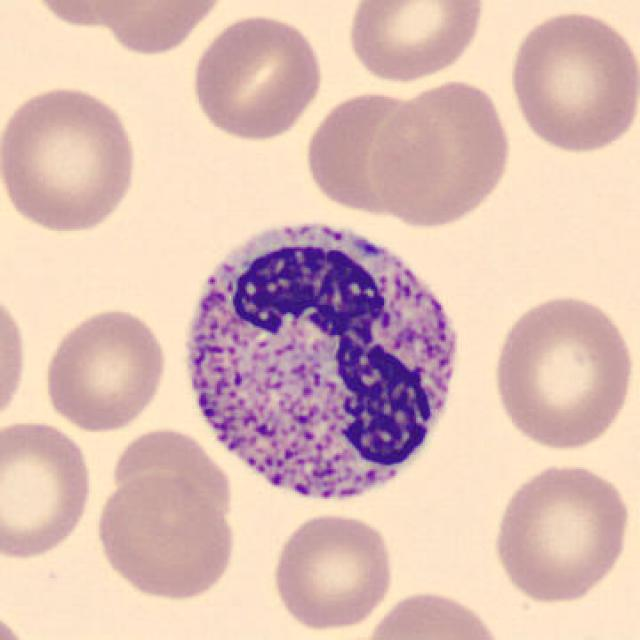Neutrophil: (169, 201, 476, 525)
RBC: (487, 289, 637, 453), (370, 76, 516, 231), (0, 79, 142, 238), (489, 458, 635, 606), (505, 5, 638, 157), (300, 84, 446, 220), (91, 469, 238, 603), (187, 9, 327, 144), (39, 302, 171, 434), (267, 508, 398, 634), (0, 416, 96, 564), (105, 423, 236, 522), (341, 0, 489, 85), (361, 585, 508, 640), (89, 0, 231, 56), (0, 282, 32, 432), (21, 0, 162, 30)
